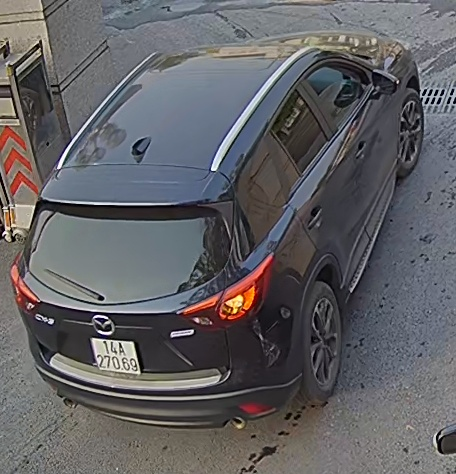vehicle plate: (84, 334, 145, 380)
